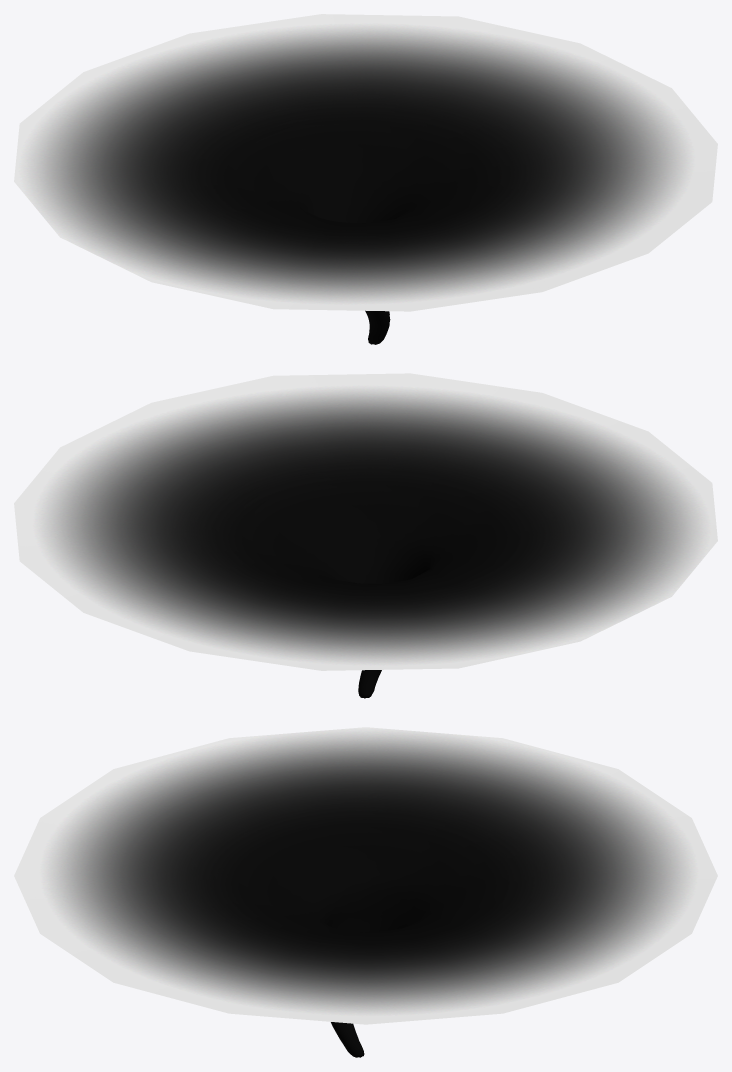
The model's file is blackHole.fbx.
The picture shows the model from 3 angles, top to bottom: view 1: azimuth 30°, elevation 25°; view 2: azimuth 150°, elevation 25°; view 3: azimuth 270°, elevation 25°; orthographic projection.
Parts seen in each view (by area): view 1: blackHole; view 2: blackHole; view 3: blackHole.
Part boxes in pixels (left/top/right/bottom): blackHole: left=14, top=14, right=717, bottom=344; blackHole: left=14, top=373, right=717, bottom=698; blackHole: left=14, top=727, right=717, bottom=1057.
Bounding box in the file's own units: 203 × 56.97 × 203.
